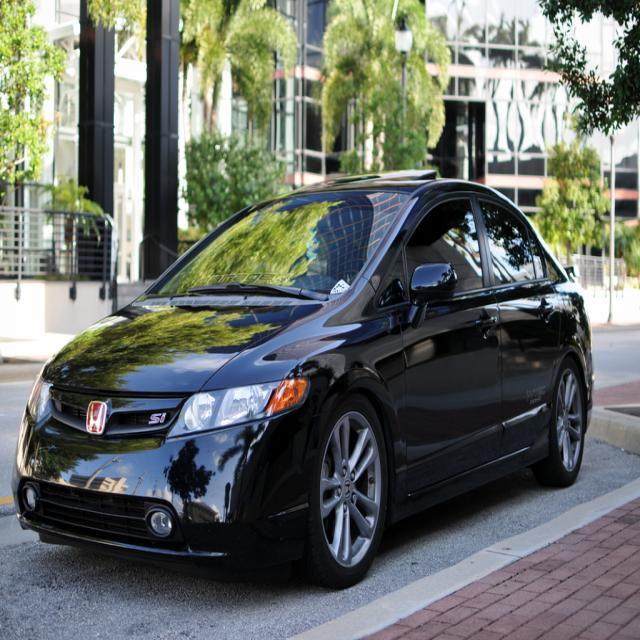car: (14, 172, 596, 588)
